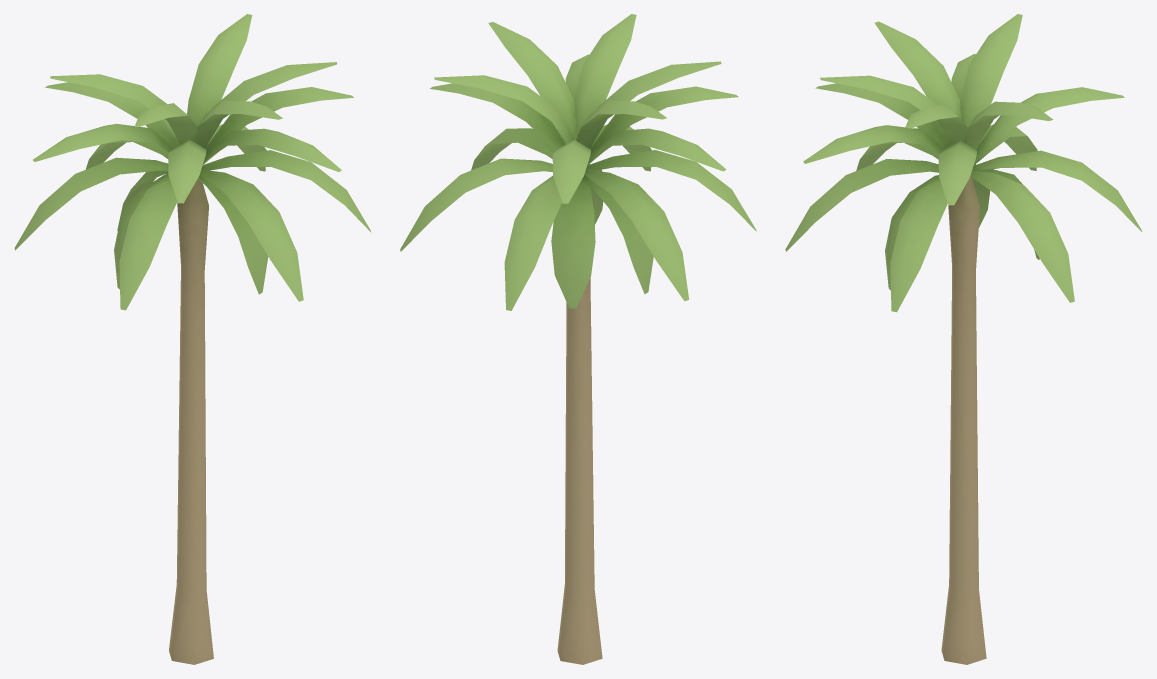
3 views of the same model, side by side, from view 1: azimuth 30°, elevation 25°; view 2: azimuth 150°, elevation 25°; view 3: azimuth 270°, elevation 25° (orthographic).
Visible parts, largest first — view 1: Palm1.001; view 2: Palm1.001; view 3: Palm1.001.
Boxes of the visible parts, box(x1,y1,x2,y2) form: Palm1.001: box(14, 14, 371, 664); Palm1.001: box(400, 14, 756, 664); Palm1.001: box(785, 14, 1142, 664).
Bounding box in the file's own units: 12.05 × 21.93 × 12.13.
Materials: 1 (1 with a texture image).
